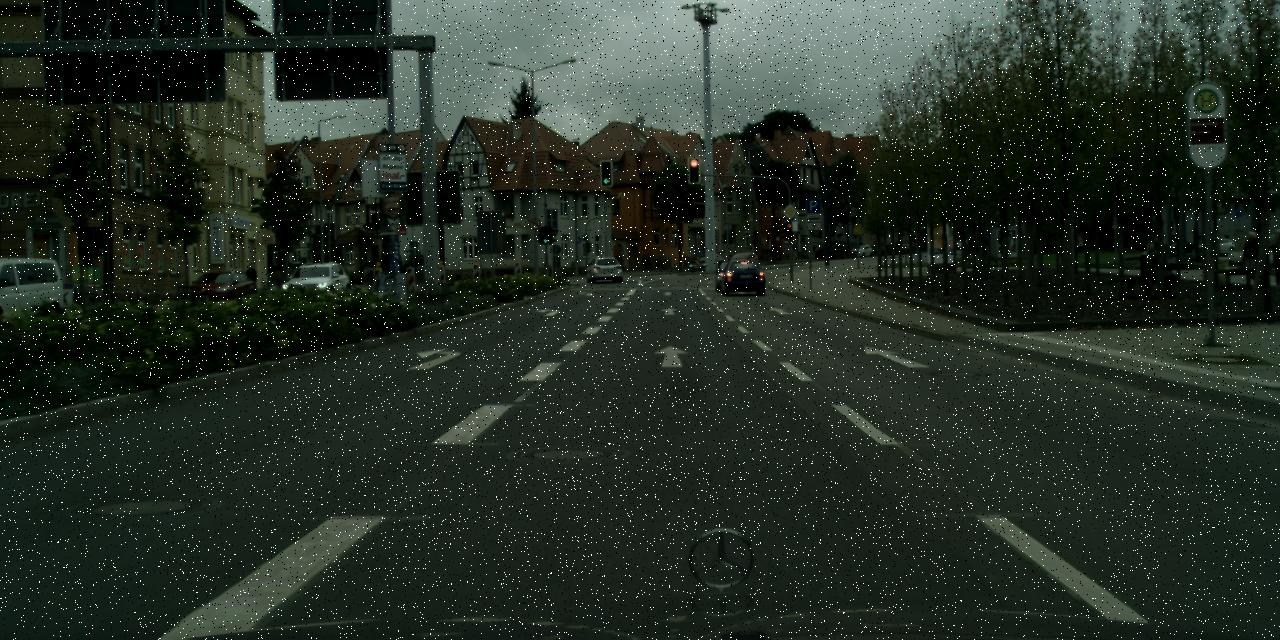ped: (1242, 231, 1262, 278), (1268, 228, 1278, 284), (244, 263, 258, 298)
